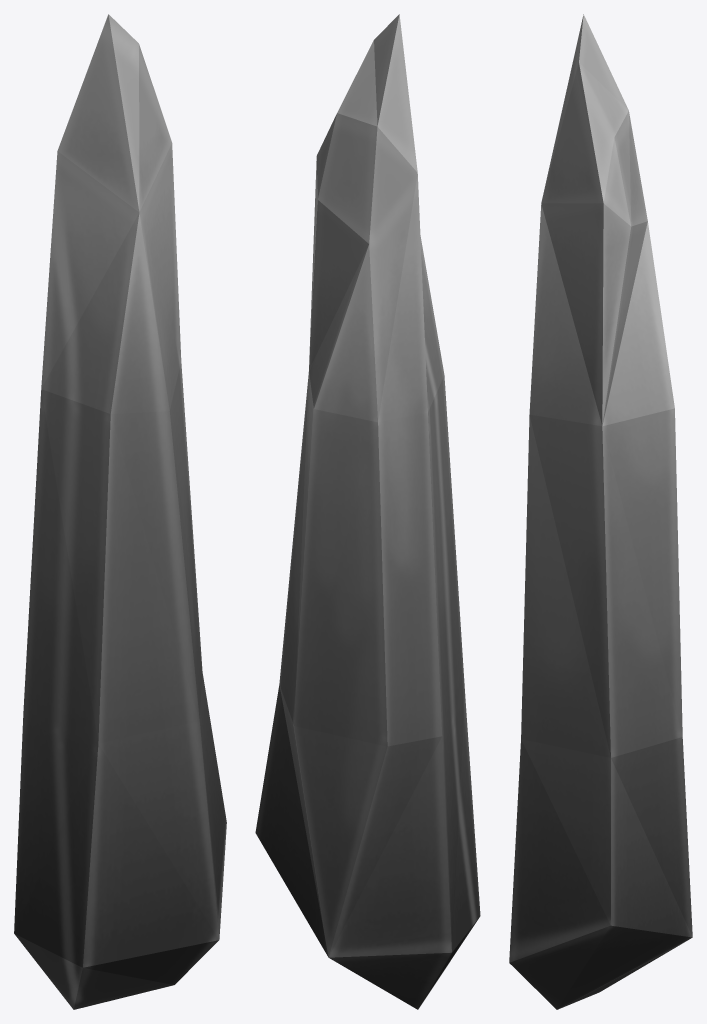
File: cave crystal C.FBX
3 views of the same model, side by side, from view 1: azimuth 30°, elevation 25°; view 2: azimuth 150°, elevation 25°; view 3: azimuth 270°, elevation 25° (orthographic).
Visible parts, largest first — view 1: crystal C; view 2: crystal C; view 3: crystal C.
Boxes of the visible parts, x1=… form: crystal C: x1=14, y1=14, x2=226, y2=1009; crystal C: x1=255, y1=14, x2=480, y2=1009; crystal C: x1=509, y1=14, x2=692, y2=1009.
Size of the model in its own units: 0.6298 by 2.91 by 0.4884.
